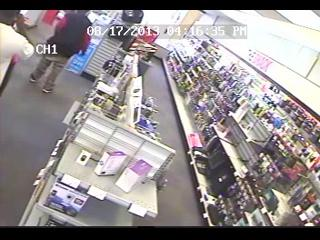Normal: (29, 12, 93, 94), (0, 15, 35, 96)
